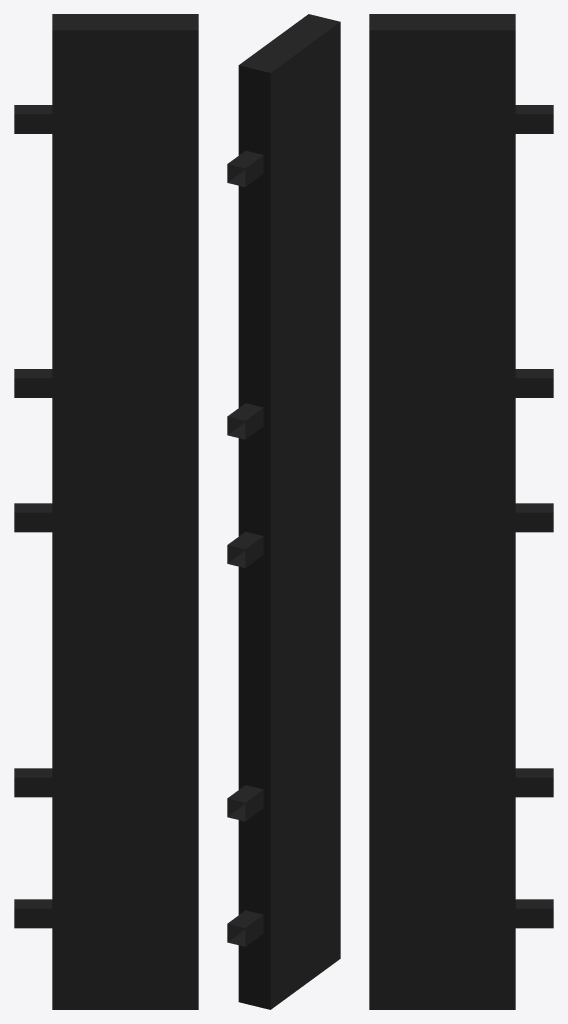
Rendered from Building_Ad01.fbx.
3 views of the same model, side by side, from view 1: azimuth 90°, elevation 25°; view 2: azimuth 150°, elevation 25°; view 3: azimuth 270°, elevation 25° (orthographic). The views are drawn at different scales.
Visible parts, largest first — view 1: Building_Ad; view 2: Building_Ad; view 3: Building_Ad.
Boxes of the visible parts, x1,y1,x2,y2 form: Building_Ad: [14, 14, 198, 1009]; Building_Ad: [227, 14, 340, 1009]; Building_Ad: [369, 14, 553, 1009].
Bounding box in the file's own units: 29.01 × 814 × 139.
